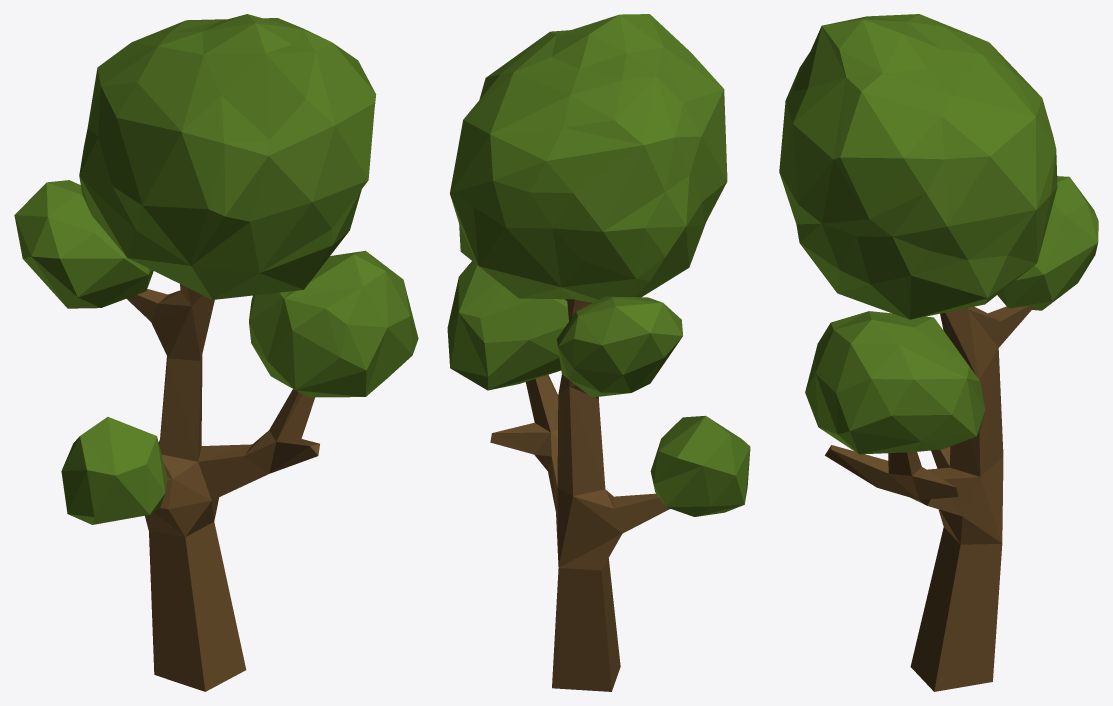
The model's file is Planta_Arbol_011.fbx.
3 renders of one model, left to right at view 1: azimuth 30°, elevation 25°; view 2: azimuth 150°, elevation 25°; view 3: azimuth 270°, elevation 25°, orthographic. The views are drawn at different scales.
Visible parts, largest first — view 1: Tree1; view 2: Tree1; view 3: Tree1.
Part boxes in pixels (x1=…): Tree1: x1=14, y1=14, x2=418, y2=691; Tree1: x1=447, y1=14, x2=750, y2=691; Tree1: x1=779, y1=14, x2=1098, y2=691.
Size of the model in its own units: 182 by 371 by 163.
2 materials, 2 textured.
